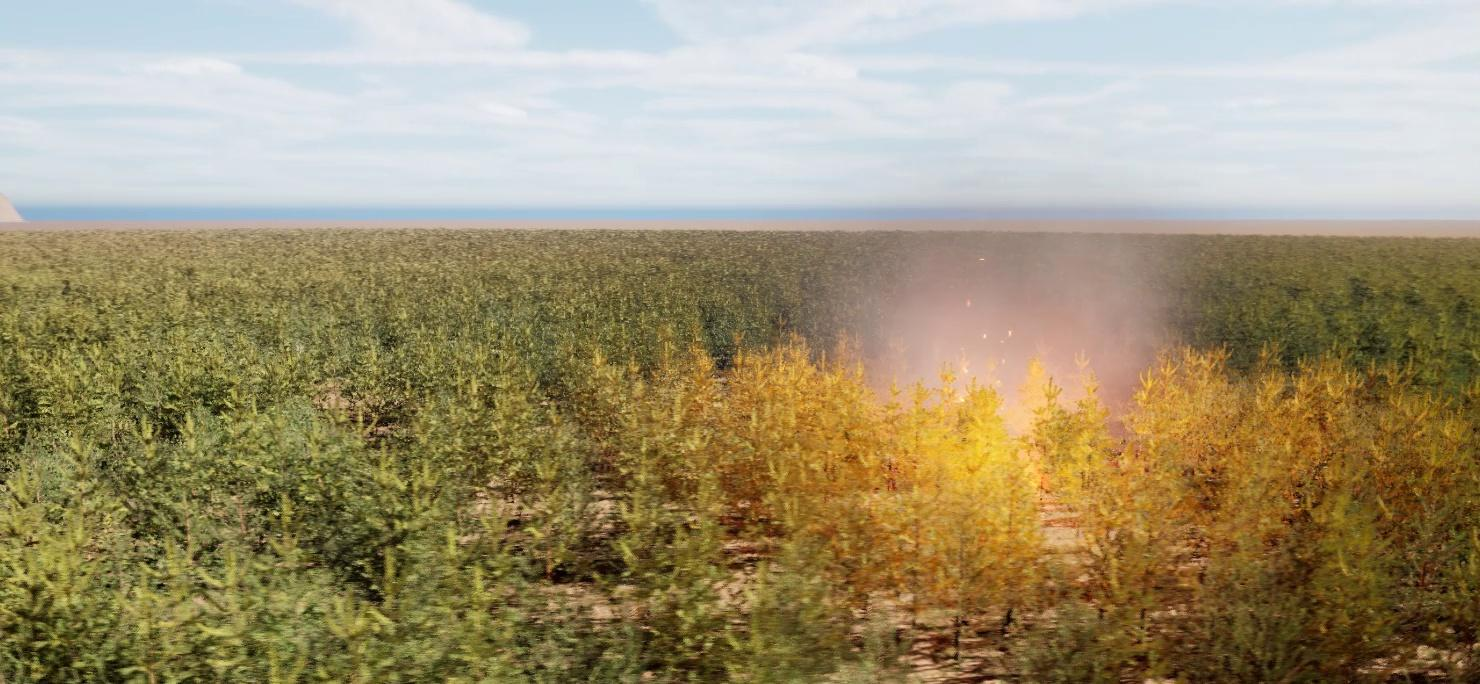fire: (771, 351, 1363, 507)
smoke: (837, 232, 1200, 427)
